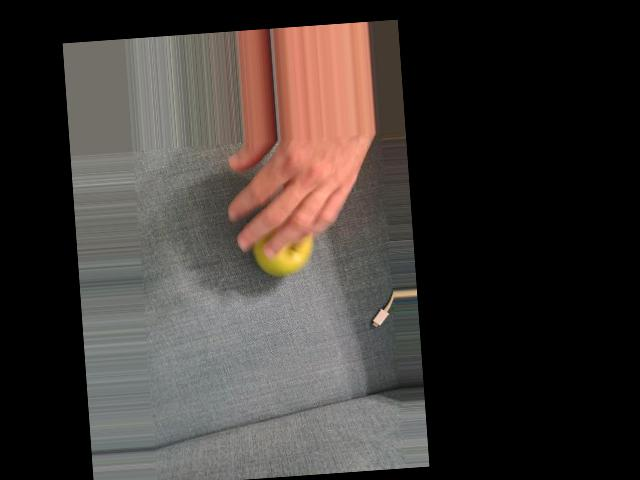apple: (246, 196, 321, 285)
